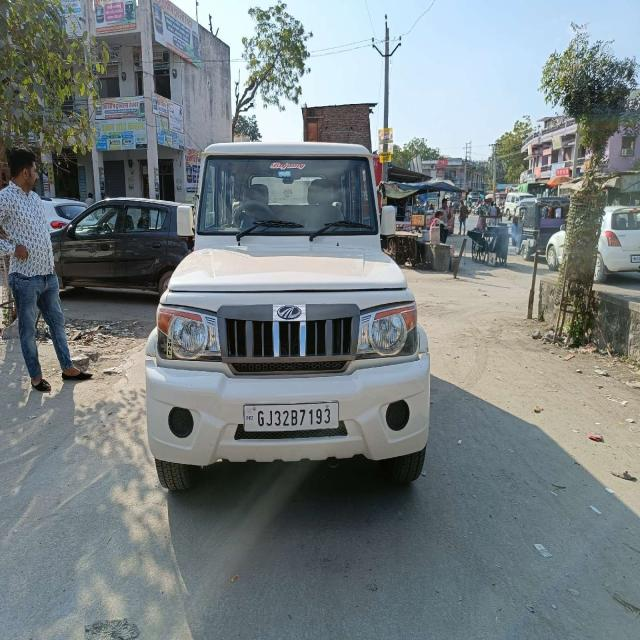light_vehicle: (138, 142, 431, 473)
